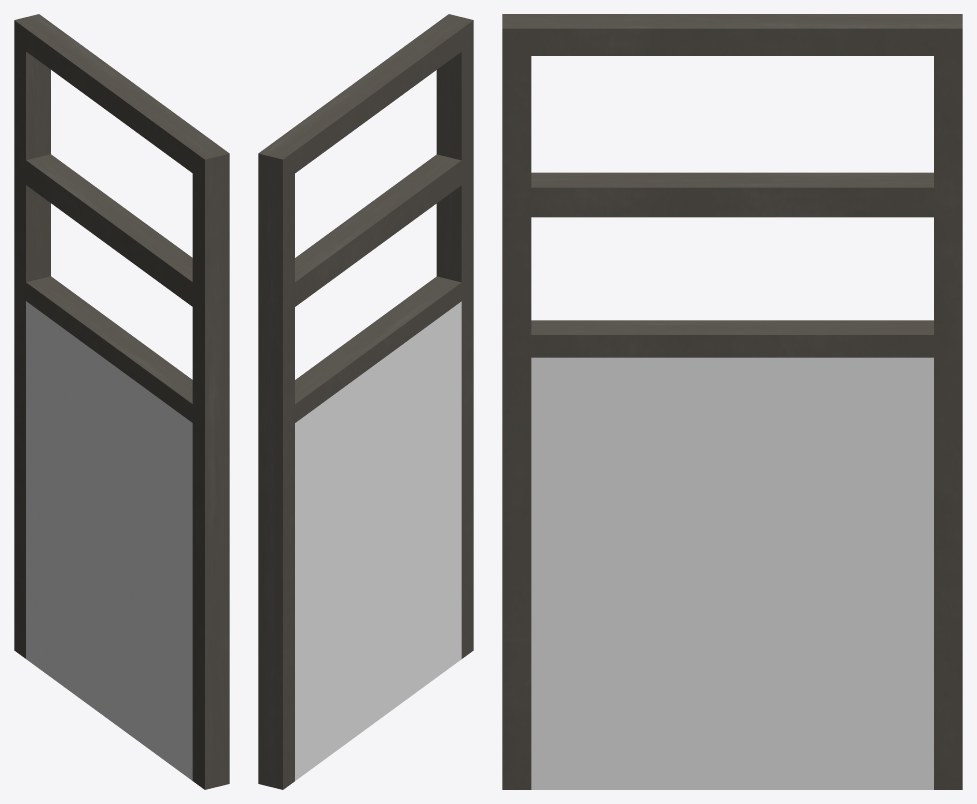
Rendered from deskwall.fbx.
3 renders of one model, left to right at view 1: azimuth 30°, elevation 25°; view 2: azimuth 150°, elevation 25°; view 3: azimuth 270°, elevation 25°, orthographic. The views are drawn at different scales.
Parts seen in each view (by area): view 1: pCube4; view 2: pCube4; view 3: pCube4.
Part boxes in pixels (left/top/right/bottom): pCube4: left=14, top=14, right=229, bottom=789; pCube4: left=258, top=14, right=473, bottom=789; pCube4: left=502, top=14, right=962, bottom=789.
Bounding box in the file's own units: 0.7947 × 19.19 × 10.52.
1 material, 1 textured.
